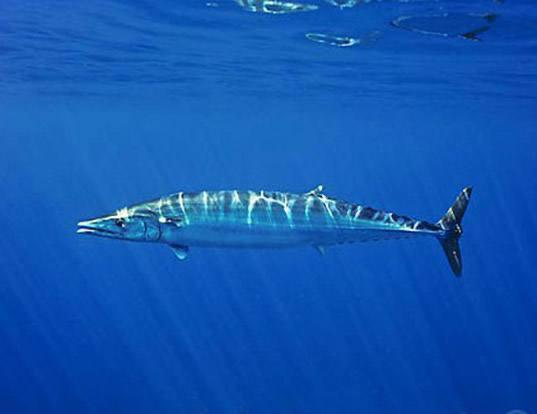Scombridae -Tunas-: (63, 170, 474, 286)
